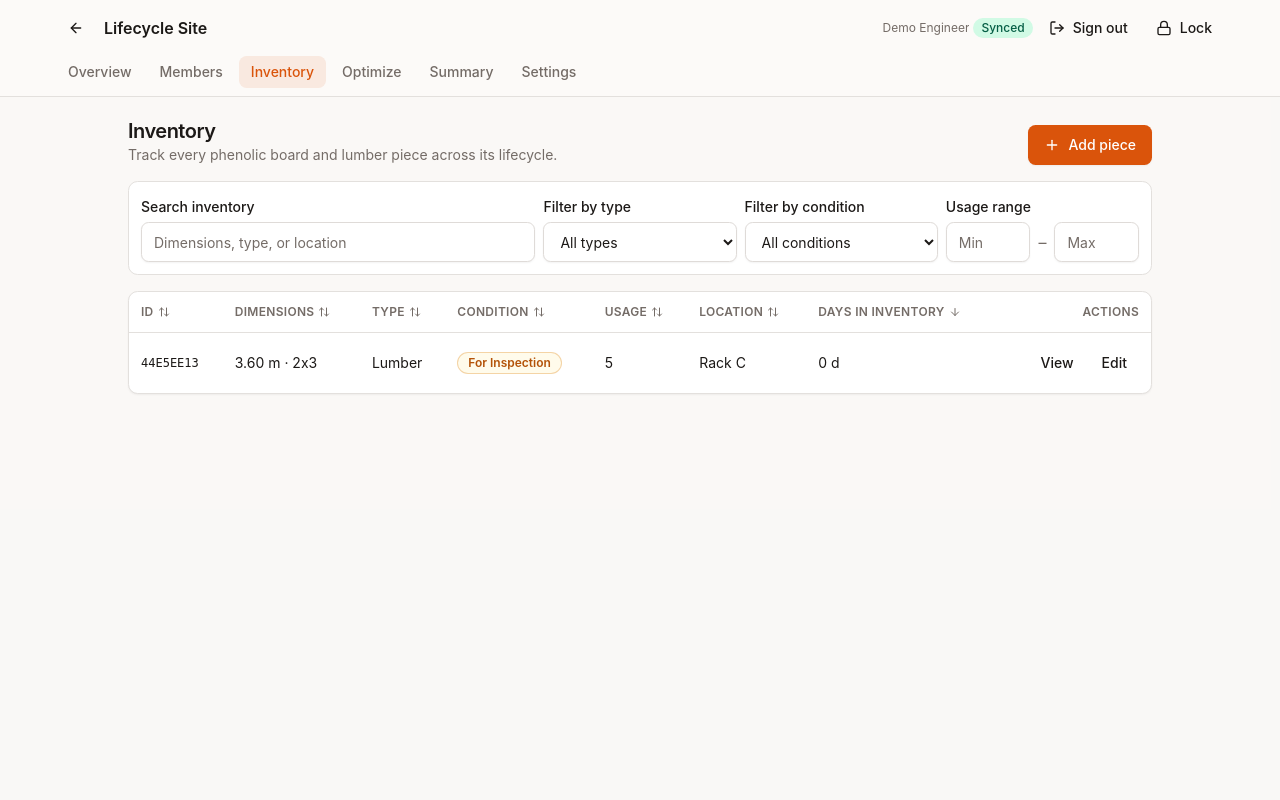
Test: ProjectInventoryScreen lifecycle and history › lets an engineer override an inspected piece back to Good
The width and height of the screenshot is (1280, 800).
Expected: the heading "Inventory" is shown, left=128, top=119, right=215, bottom=143
Click the button with aria-label "edit piece": (1114, 362) left=1090, top=344, right=1139, bottom=380
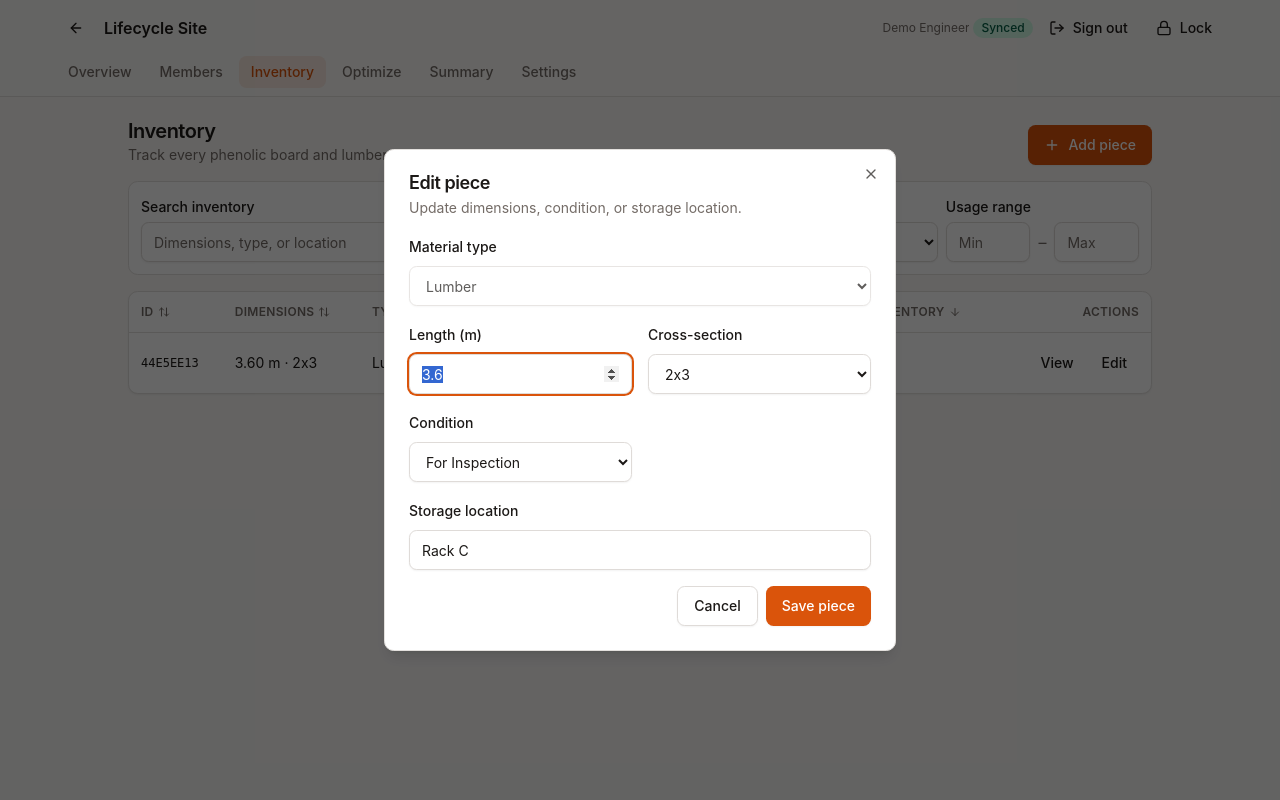
Expected: the dropdown labelled "Condition" shows "For Inspection"
Select "Good" in the dropdown labelled "Condition": (520, 462) left=409, top=442, right=632, bottom=482
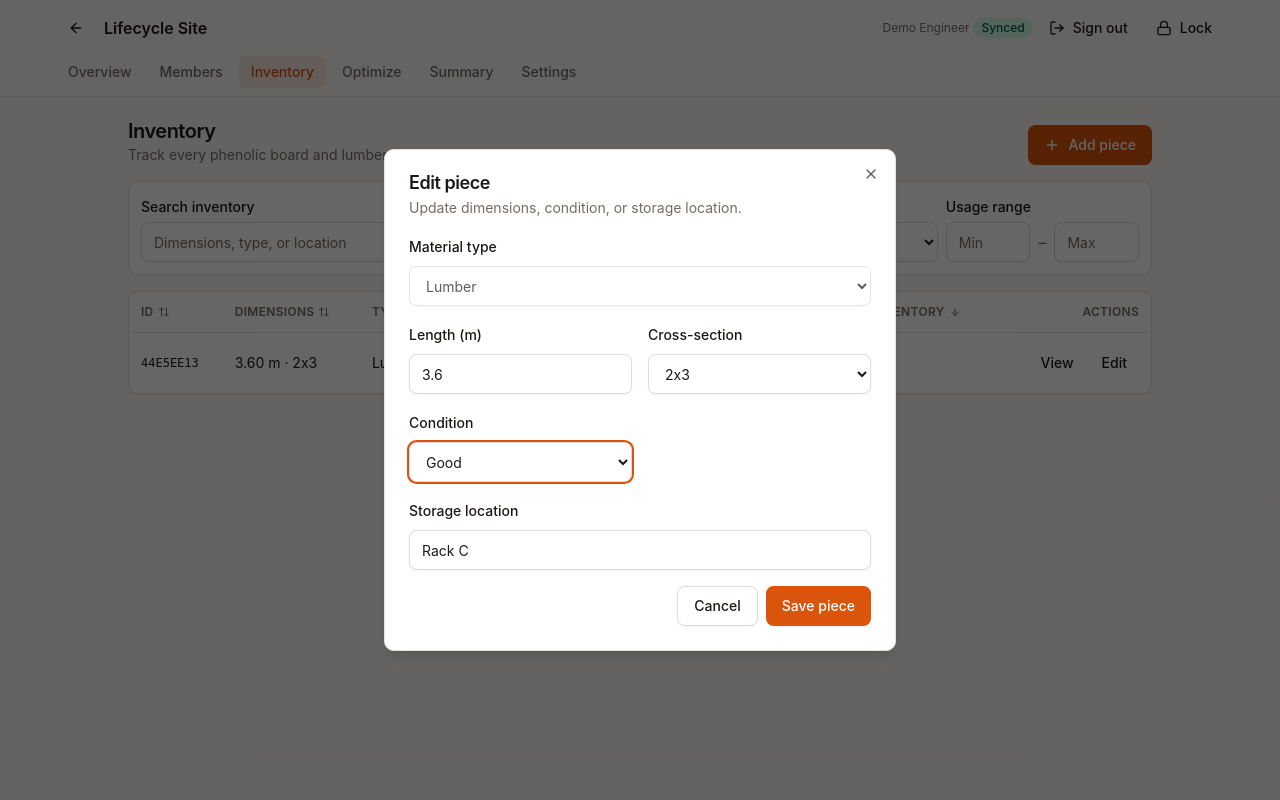
Click the button "Save piece": (818, 606) left=766, top=586, right=871, bottom=626
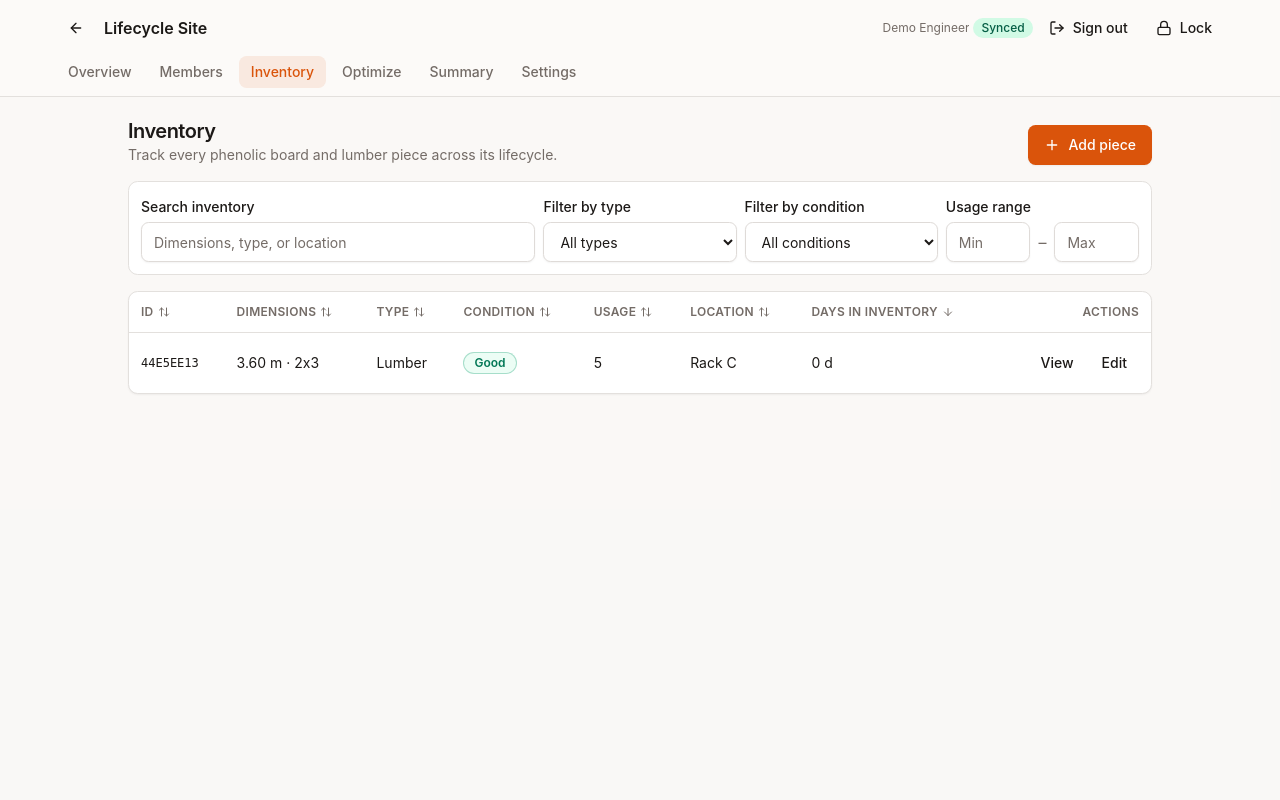
Expected: the row "44E5EE13 3.60 m · 2x3 Lumber Good 5 Rack C 0 d View Edit" is shown, left=129, top=332, right=1151, bottom=392
